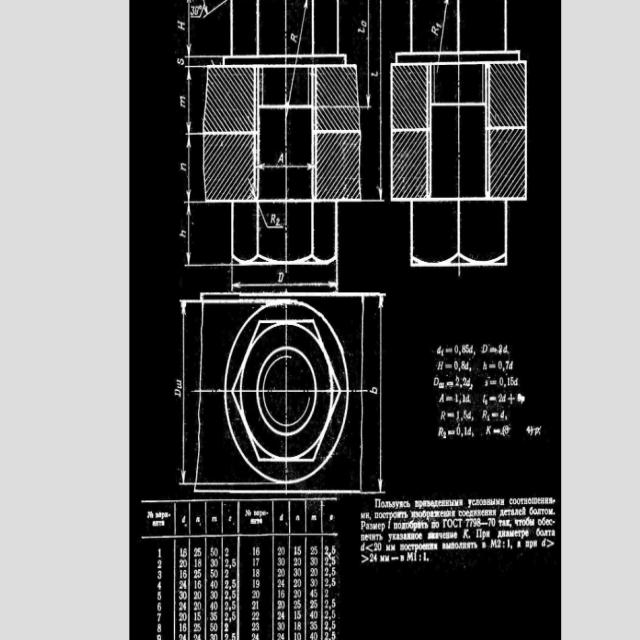marking_line: (363, 0, 386, 203), (364, 292, 385, 496), (178, 298, 194, 486), (230, 265, 340, 290), (186, 0, 223, 59), (184, 128, 204, 203), (183, 201, 204, 267), (360, 0, 372, 110), (185, 63, 202, 136), (289, 0, 311, 54), (432, 0, 454, 51), (204, 0, 230, 19), (260, 162, 311, 170), (248, 179, 256, 197)
numeric: (277, 151, 285, 164), (176, 56, 185, 67), (177, 20, 186, 31), (517, 393, 526, 404), (431, 26, 439, 36), (278, 270, 284, 283), (291, 32, 298, 43), (370, 384, 377, 395), (180, 96, 185, 109), (179, 229, 186, 238), (357, 27, 366, 34), (175, 378, 181, 388), (436, 19, 442, 29), (455, 375, 460, 387), (463, 409, 468, 421), (271, 212, 276, 223), (456, 410, 461, 421), (466, 393, 471, 404), (466, 377, 471, 388), (178, 600, 183, 611), (193, 622, 198, 633), (464, 362, 470, 371), (498, 377, 504, 386), (526, 426, 532, 435), (224, 558, 230, 567), (194, 5, 199, 15), (276, 217, 281, 227), (454, 345, 459, 355), (503, 344, 508, 354), (509, 360, 514, 370), (157, 623, 162, 633), (209, 601, 214, 611), (209, 611, 214, 621), (213, 590, 218, 600), (224, 589, 229, 599), (224, 611, 229, 621), (224, 622, 229, 632), (251, 611, 256, 621), (314, 610, 319, 620), (324, 599, 329, 609), (331, 630, 336, 640), (360, 542, 365, 552), (468, 518, 473, 528), (472, 517, 477, 527), (491, 518, 496, 528), (497, 539, 502, 549), (371, 71, 378, 78), (180, 163, 186, 171), (361, 19, 367, 27), (175, 390, 181, 398), (497, 345, 502, 354), (467, 411, 472, 420), (157, 560, 162, 569), (157, 570, 162, 579), (157, 603, 162, 612), (178, 612, 183, 621), (183, 548, 188, 557), (193, 601, 198, 610), (213, 569, 218, 578), (224, 569, 229, 578), (224, 580, 229, 589), (224, 601, 229, 610), (251, 622, 256, 631), (281, 622, 286, 631), (297, 631, 302, 640), (309, 631, 314, 640), (314, 546, 319, 555), (314, 557, 319, 566), (324, 567, 329, 576), (324, 578, 329, 587), (331, 567, 336, 576), (324, 610, 329, 619), (377, 542, 382, 551), (456, 425, 460, 436), (158, 547, 162, 558), (252, 600, 256, 611), (369, 552, 373, 563), (507, 538, 511, 549), (190, 5, 194, 15), (454, 360, 458, 370), (467, 427, 471, 437), (505, 426, 509, 436), (505, 360, 509, 370), (183, 580, 187, 590), (183, 601, 187, 611), (194, 548, 198, 558), (194, 569, 198, 579), (198, 591, 203, 599), (197, 581, 202, 589), (210, 547, 214, 557), (214, 547, 218, 557), (210, 557, 214, 567), (210, 590, 214, 600), (215, 579, 219, 589), (214, 601, 218, 611), (214, 611, 218, 621), (214, 622, 218, 632), (232, 558, 236, 568), (232, 589, 236, 599), (232, 611, 236, 621), (256, 546, 260, 556), (256, 558, 260, 568), (256, 611, 260, 621), (252, 589, 256, 599), (293, 546, 297, 556), (298, 546, 302, 556), (310, 557, 314, 567), (310, 589, 314, 599), (310, 599, 314, 609), (310, 610, 314, 620), (309, 622, 314, 630), (324, 588, 328, 598), (332, 598, 336, 608), (332, 577, 336, 587), (324, 622, 329, 630), (332, 620, 336, 630), (324, 632, 329, 640), (374, 542, 378, 552), (465, 518, 469, 528), (461, 394, 465, 403), (462, 378, 466, 387), (462, 344, 466, 353), (514, 377, 518, 386), (157, 591, 161, 600), (157, 613, 161, 622), (179, 559, 183, 568), (183, 559, 187, 568), (183, 612, 187, 621), (183, 591, 187, 600), (183, 624, 187, 633), (198, 601, 202, 610), (197, 623, 201, 632), (210, 580, 214, 589), (210, 622, 214, 631), (214, 558, 218, 567), (225, 548, 229, 557), (232, 578, 236, 587), (232, 600, 236, 609), (256, 579, 260, 588), (256, 622, 260, 631), (282, 546, 286, 555), (278, 557, 282, 566), (277, 568, 281, 577), (277, 600, 281, 609), (277, 611, 281, 620), (277, 622, 281, 631), (281, 569, 285, 578), (281, 590, 285, 599), (281, 600, 285, 609), (281, 611, 285, 620), (298, 568, 302, 577), (294, 579, 298, 588), (293, 589, 297, 598), (298, 590, 302, 599), (297, 610, 301, 619), (297, 621, 301, 630), (294, 557, 298, 566), (294, 568, 298, 577), (293, 600, 297, 609), (310, 568, 314, 577), (310, 578, 314, 587), (314, 578, 318, 587), (314, 599, 318, 608), (314, 621, 318, 630), (314, 631, 318, 640), (332, 546, 336, 555), (332, 556, 336, 565), (374, 553, 378, 562), (224, 633, 229, 640), (511, 375, 514, 386), (179, 623, 182, 634), (198, 610, 201, 621), (461, 361, 465, 369), (469, 345, 473, 353), (498, 361, 502, 369), (498, 394, 502, 402), (500, 410, 504, 418), (502, 394, 506, 402), (179, 591, 183, 599), (183, 570, 187, 578), (198, 559, 202, 567), (231, 632, 235, 640), (256, 569, 260, 577), (256, 590, 260, 598), (252, 632, 256, 640), (282, 558, 286, 566), (281, 579, 285, 587), (281, 632, 285, 640), (298, 557, 302, 565), (310, 546, 314, 554), (314, 589, 318, 597), (455, 394, 458, 404), (158, 581, 161, 591), (156, 634, 161, 640), (198, 568, 201, 578), (194, 579, 197, 589), (210, 568, 213, 578), (256, 600, 259, 610), (278, 546, 281, 556), (278, 578, 281, 588), (298, 599, 301, 609), (294, 621, 297, 631), (325, 545, 328, 555), (332, 610, 335, 620), (423, 552, 426, 562), (210, 633, 214, 640), (214, 633, 218, 640), (256, 633, 260, 640), (277, 633, 281, 640), (465, 344, 468, 353), (179, 580, 182, 589), (180, 569, 183, 578), (198, 547, 201, 556), (194, 591, 197, 600), (194, 612, 197, 621), (252, 579, 255, 588), (252, 568, 255, 577), (278, 589, 281, 598), (298, 578, 301, 587), (294, 611, 297, 620), (293, 631, 296, 640), (315, 567, 318, 576), (414, 553, 417, 562), (478, 518, 481, 527), (488, 518, 491, 527), (507, 378, 510, 386), (183, 634, 187, 640), (194, 559, 197, 567), (193, 634, 197, 640), (253, 559, 256, 567), (325, 557, 328, 565), (464, 425, 466, 436), (180, 547, 182, 558), (179, 634, 182, 640), (199, 634, 202, 640), (253, 547, 255, 556)
special_symbol: (444, 345, 454, 355), (360, 553, 369, 563), (546, 539, 555, 549), (365, 542, 373, 552), (508, 394, 515, 405), (448, 427, 456, 436), (446, 380, 454, 388), (489, 347, 497, 354), (493, 427, 501, 434), (445, 396, 454, 402), (488, 363, 497, 369), (446, 362, 453, 369), (488, 379, 497, 384), (491, 412, 500, 417), (327, 551, 332, 560), (447, 413, 455, 418), (390, 557, 399, 561), (488, 396, 496, 400), (198, 4, 202, 10), (328, 605, 331, 611), (329, 573, 332, 578), (328, 627, 331, 631), (329, 562, 331, 567), (329, 584, 331, 589), (329, 616, 331, 621), (328, 637, 331, 640)
